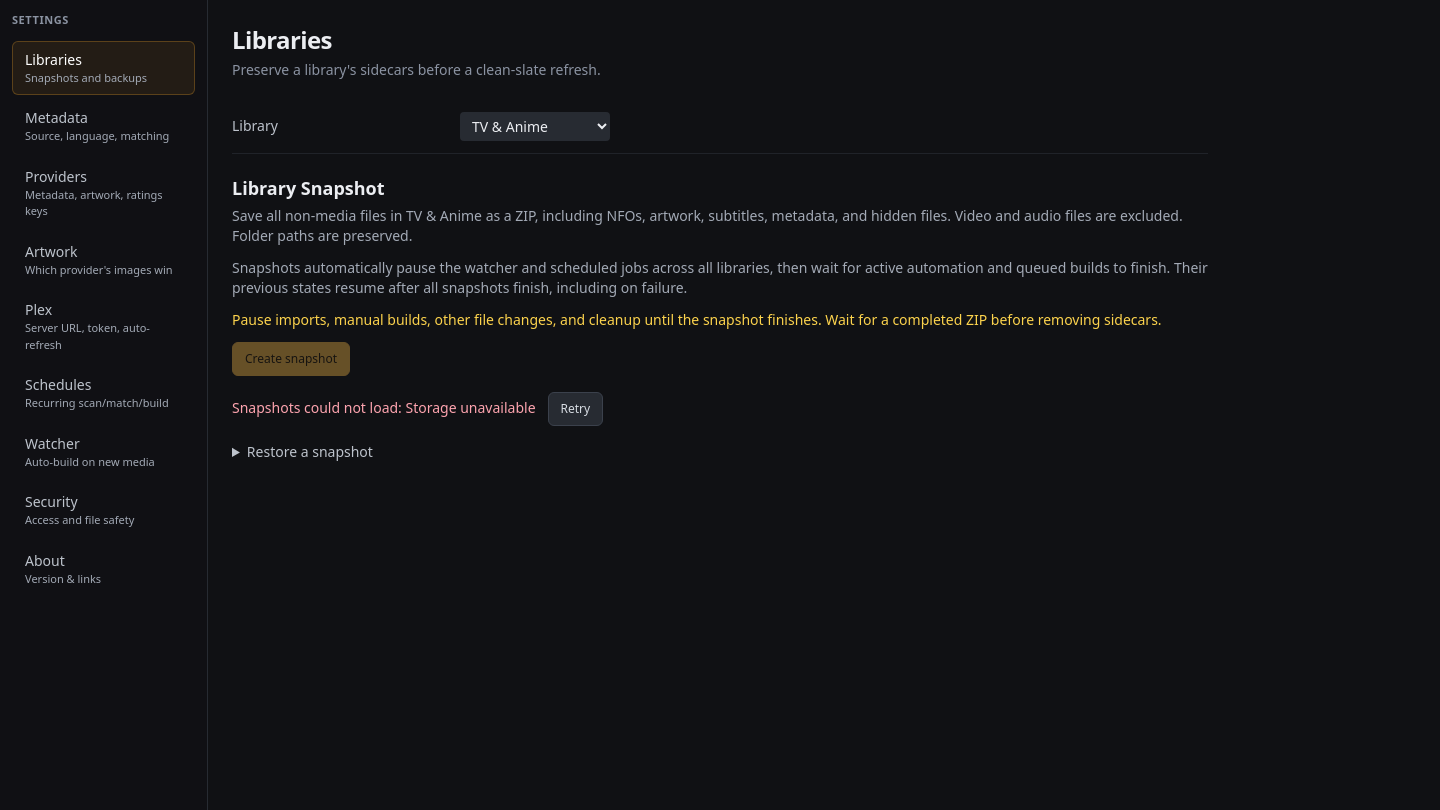
Test: library snapshots settings › shows retrieval, creation, and background errors without reporting success
Check: the message shows "Storage unavailable", box left=406, top=398, right=536, bottom=417
Check: the button "Create snapshot" is disabled, box left=232, top=342, right=350, bottom=376
Click the button "Retry" at (575, 409), box left=548, top=392, right=603, bottom=426
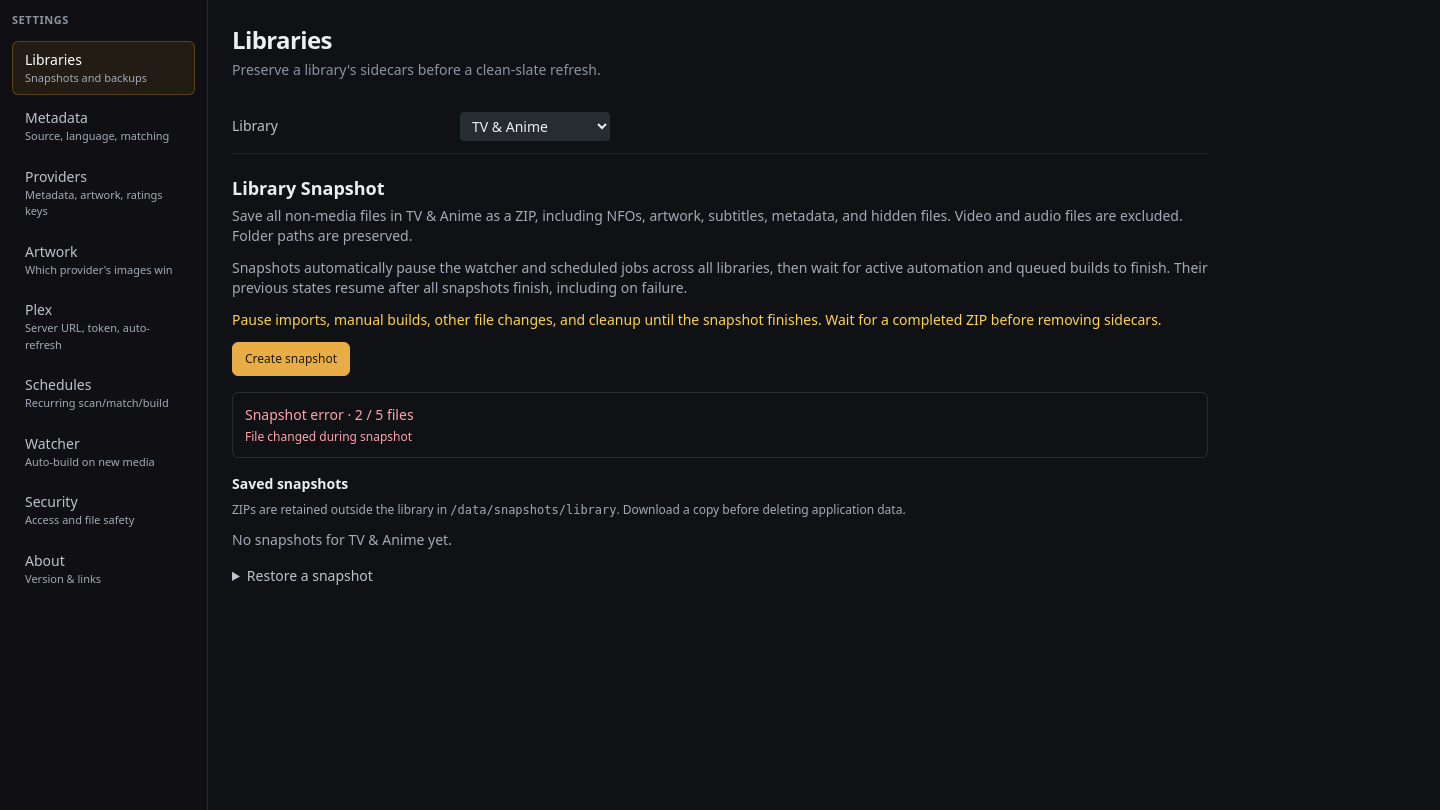
Check: the text "File changed during snapshot" is shown, box left=245, top=428, right=412, bottom=445
Click the button "Create snapshot" at (291, 359), box left=232, top=342, right=350, bottom=376
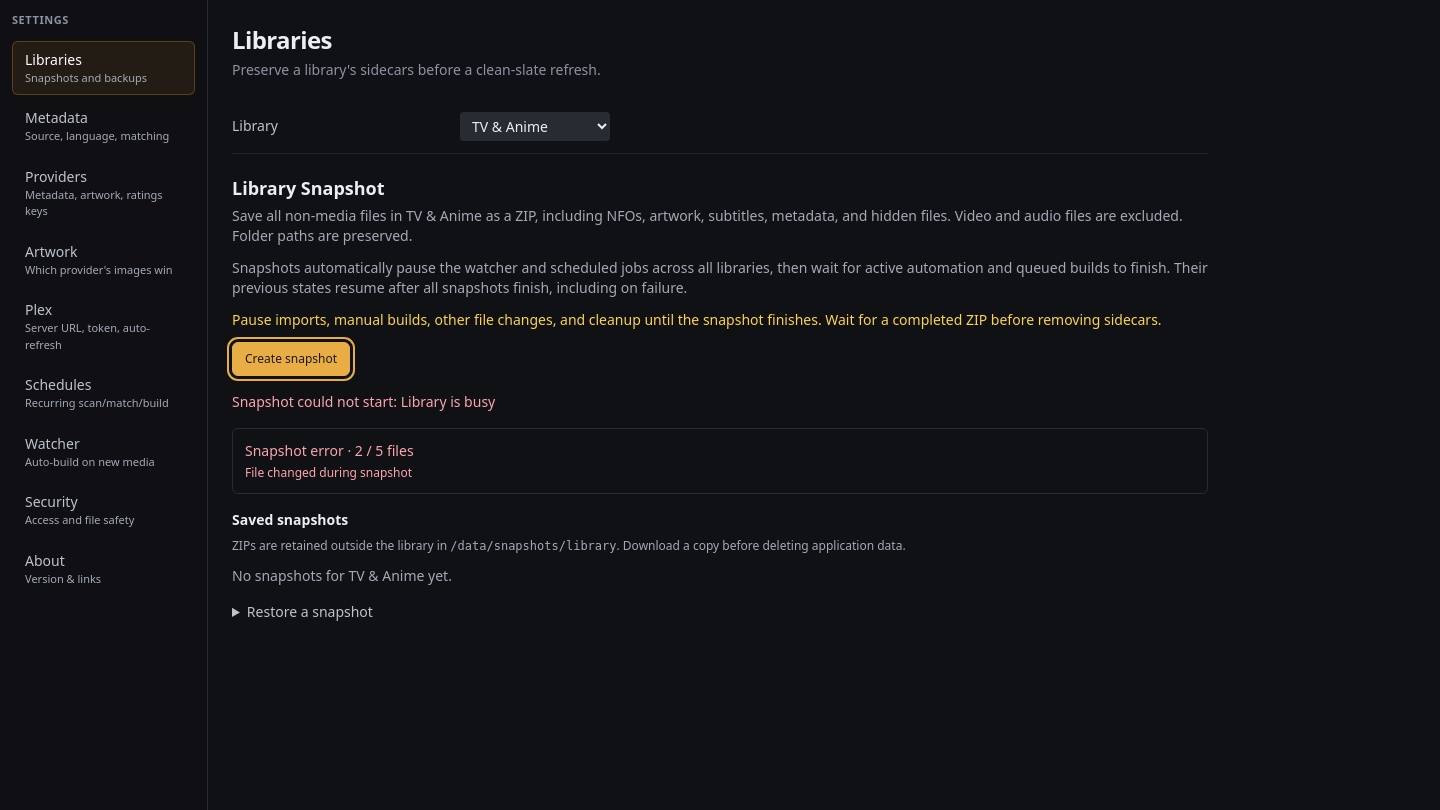
Check: the text "Snapshot could not start: Library is busy" is shown, box left=232, top=392, right=495, bottom=411
